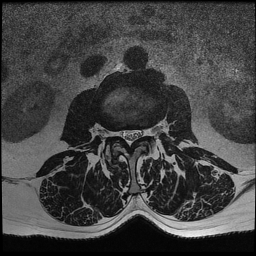CCS_normal: (126, 123, 133, 151)
LFS_normal: (142, 121, 149, 143)
LLS_normal: (133, 122, 142, 145)
RFS_stenosis: (110, 121, 118, 144)
RLS_normal: (118, 122, 126, 146)
